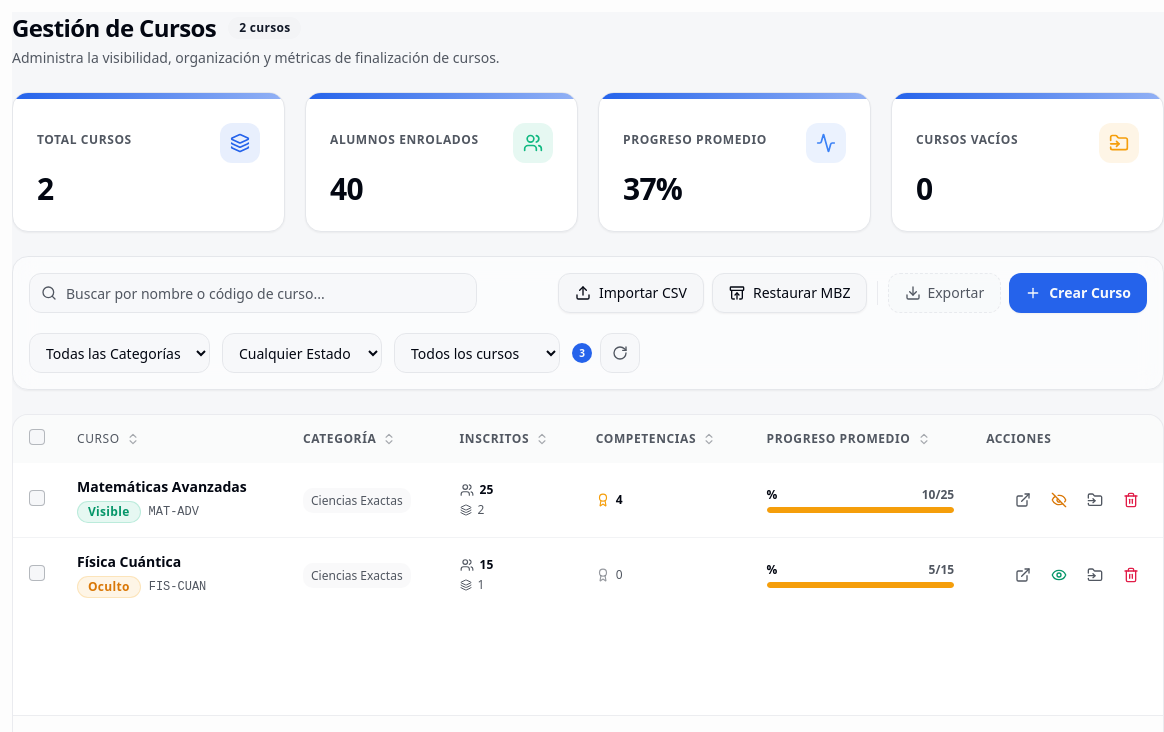
Test: CoursesView behavior tests › shows success toast after hide course action
Check: the link "Matemáticas Avanzadas" is shown, box [77,477,271,497]
Click the button titled "Ocultar curso". click: (1059, 500)
box: [1043,484,1075,516]
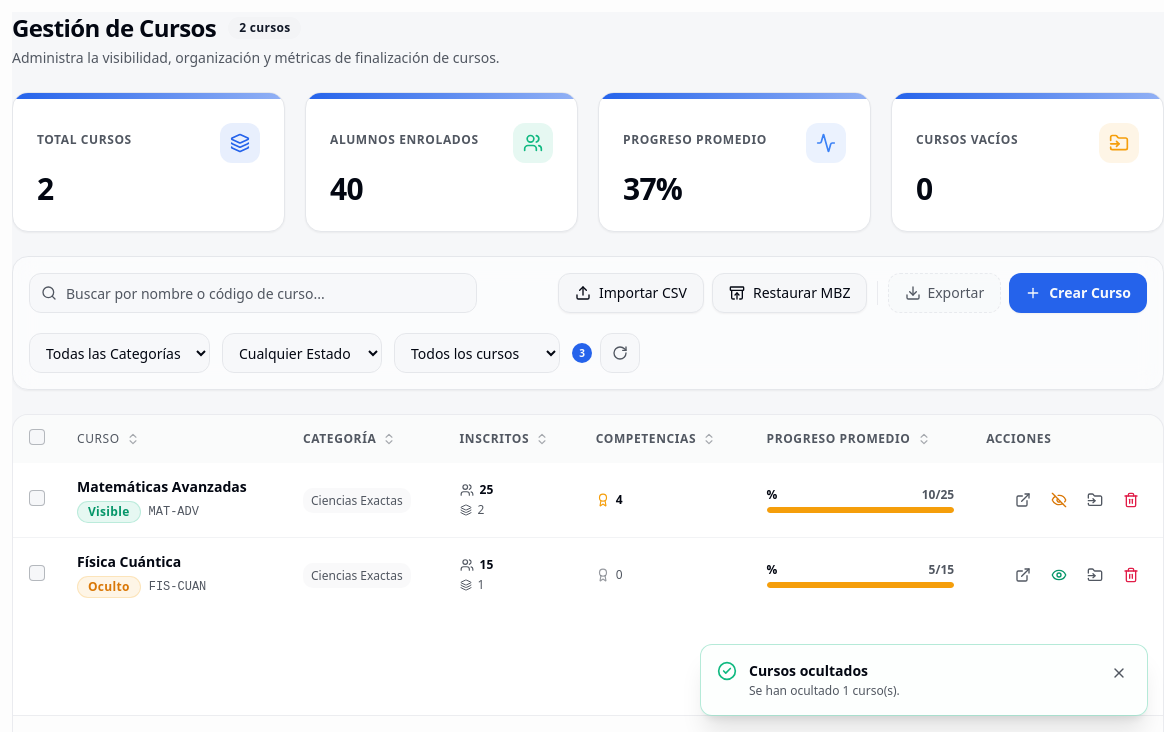
Check: the text "Cursos ocultados" is shown, box [749,661,868,680]
